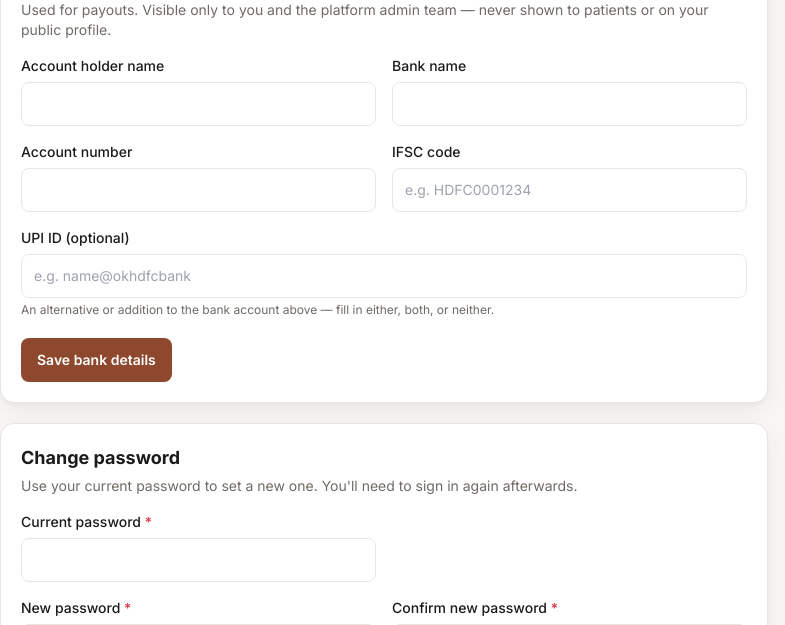
Scenario: DoctorProfileEdit › shows an inline error when saving bank details fails
(page scrolled)
Click the button "Save bank details" at (96, 360), box 21,338 -> 172,382
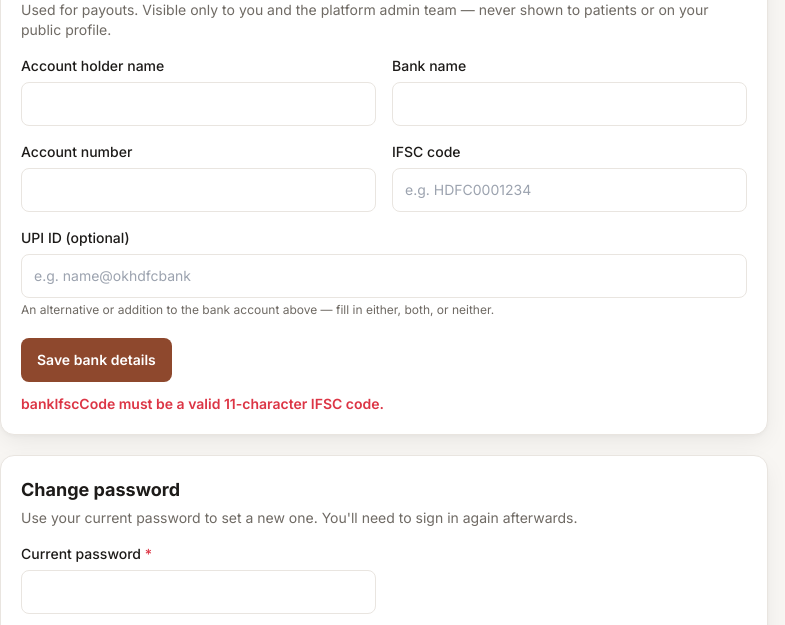
Expected: the text "bankIfscCode must be a valid 11-character IFSC code." is shown, 21,395 -> 384,412
